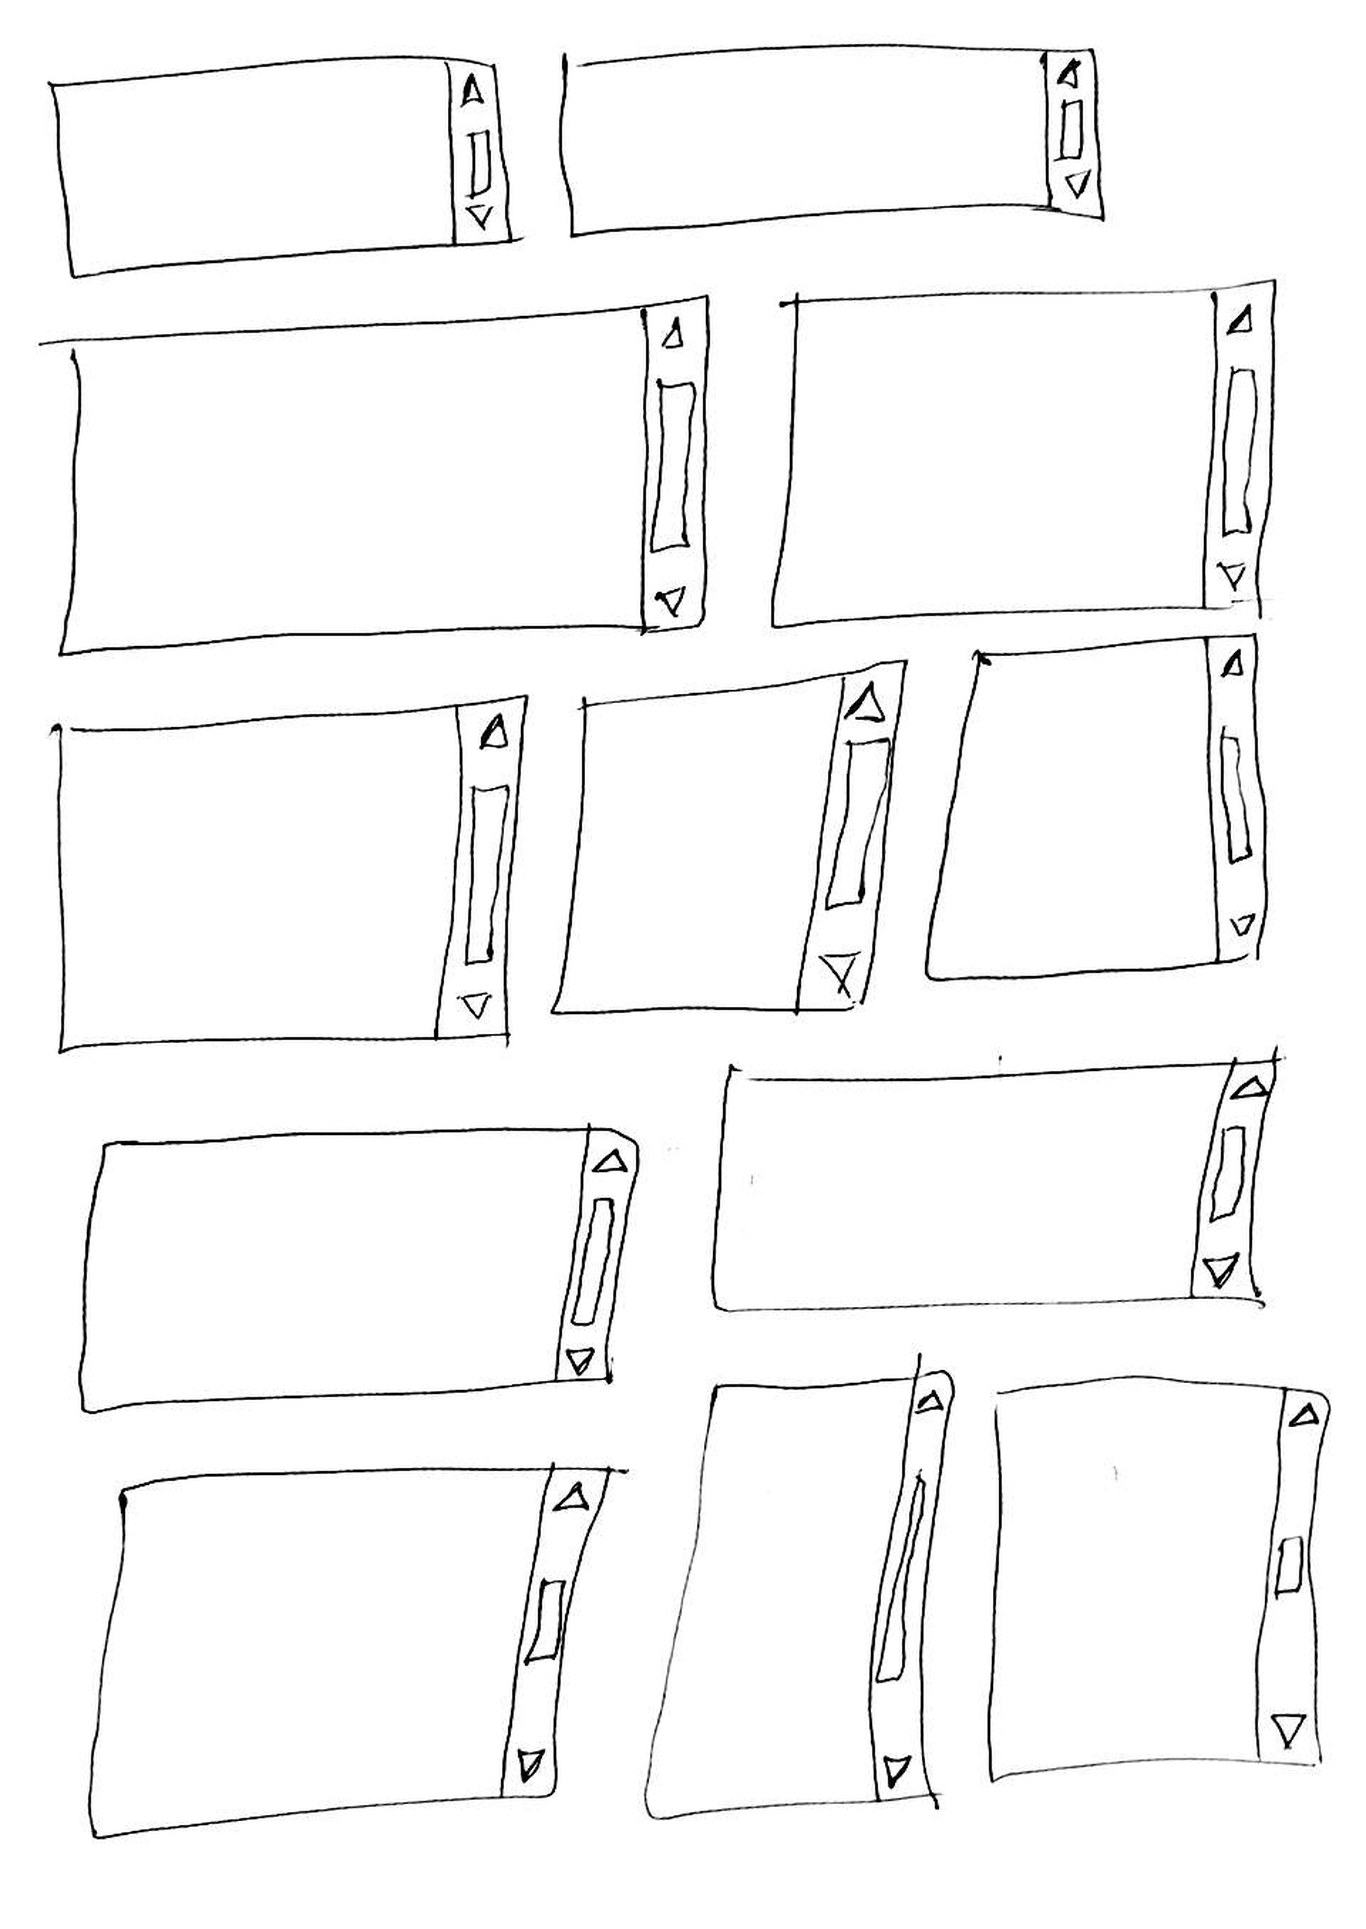Textarea: (38, 294, 711, 656), (89, 1462, 630, 1840), (772, 279, 1277, 630), (47, 695, 529, 1054), (78, 1123, 640, 1415), (710, 1047, 1288, 1313), (645, 1353, 955, 1821), (988, 1375, 1331, 1783), (550, 659, 908, 1015), (924, 633, 1268, 981), (47, 55, 523, 279), (557, 43, 1104, 238)
